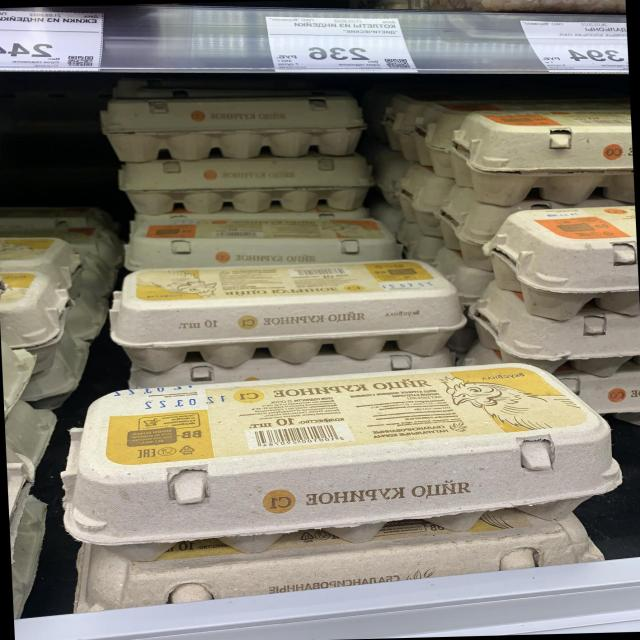organic waste: (48, 357, 627, 566), (103, 251, 472, 370), (486, 205, 640, 319), (119, 213, 394, 271)
